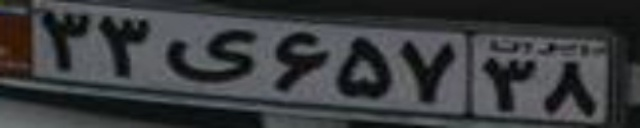3: (96, 15, 151, 78), (39, 11, 91, 72), (481, 56, 536, 113)
5: (336, 36, 392, 97)
6: (268, 32, 329, 92)
7: (396, 39, 456, 104)
8: (541, 61, 597, 116)
ye: (163, 27, 259, 82)
